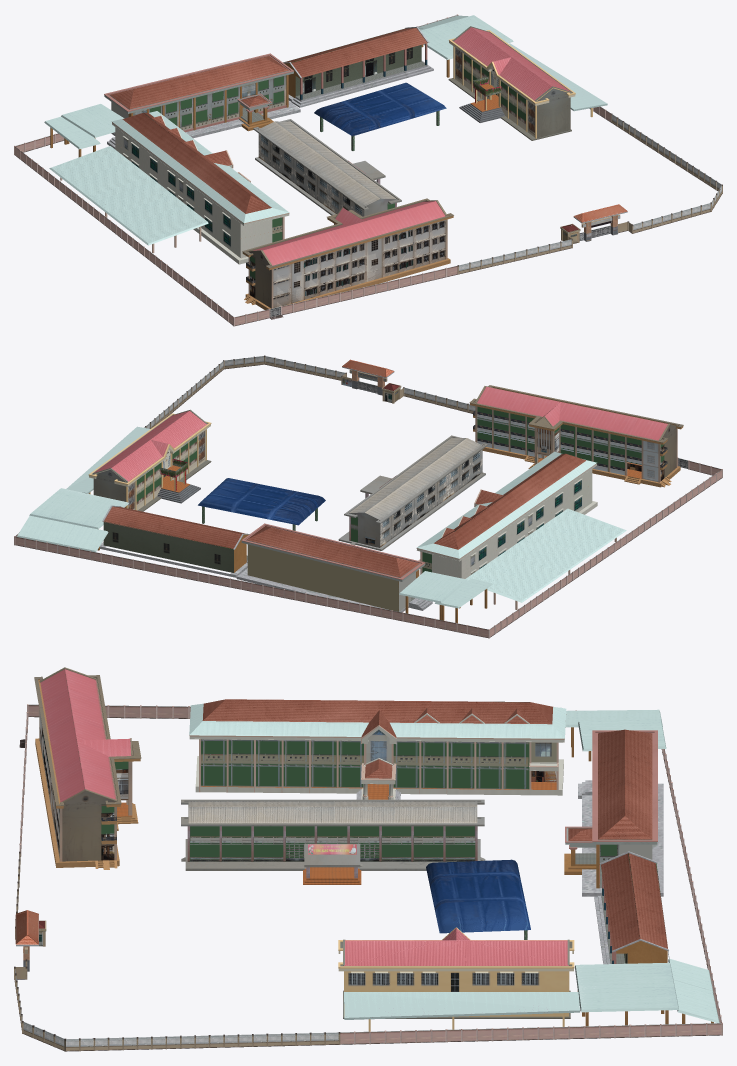
File: Trường THPT Nguyễn Du.glb
The picture shows the model from 3 angles, top to bottom: view 1: azimuth 30°, elevation 25°; view 2: azimuth 150°, elevation 25°; view 3: azimuth 270°, elevation 25°; orthographic projection. The views are drawn at different scales.
Parts seen in each view (by area): view 1: 3, 5, 6, 1, 2, 4, 2.001; view 2: 3, 5, 6, 1, 2, 4, 2.001; view 3: 5, 3, 4, 2, 6, 1, 2.001.
Part boxes in pixels (bbox=[...]): 3: bbox=[44, 15, 513, 157]; 5: bbox=[49, 111, 289, 264]; 6: bbox=[242, 198, 453, 309]; 1: bbox=[14, 14, 722, 326]; 2: bbox=[448, 26, 607, 140]; 4: bbox=[253, 119, 401, 216]; 2.001: bbox=[314, 82, 446, 150]; 3: bbox=[17, 488, 492, 622]; 5: bbox=[416, 451, 626, 609]; 6: bbox=[469, 385, 683, 487]; 1: bbox=[14, 355, 722, 638]; 2: bbox=[66, 409, 211, 511]; 4: bbox=[338, 435, 487, 550]; 2.001: bbox=[198, 478, 325, 530]; 5: bbox=[189, 699, 566, 799]; 3: bbox=[564, 709, 719, 1026]; 4: bbox=[181, 799, 485, 884]; 2: bbox=[338, 927, 579, 1031]; 6: bbox=[34, 667, 141, 869]; 1: bbox=[14, 704, 722, 1051]; 2.001: bbox=[426, 859, 530, 939].
Size of the model in its own units: 121 by 12.99 by 108.
6 materials, 6 textured.
